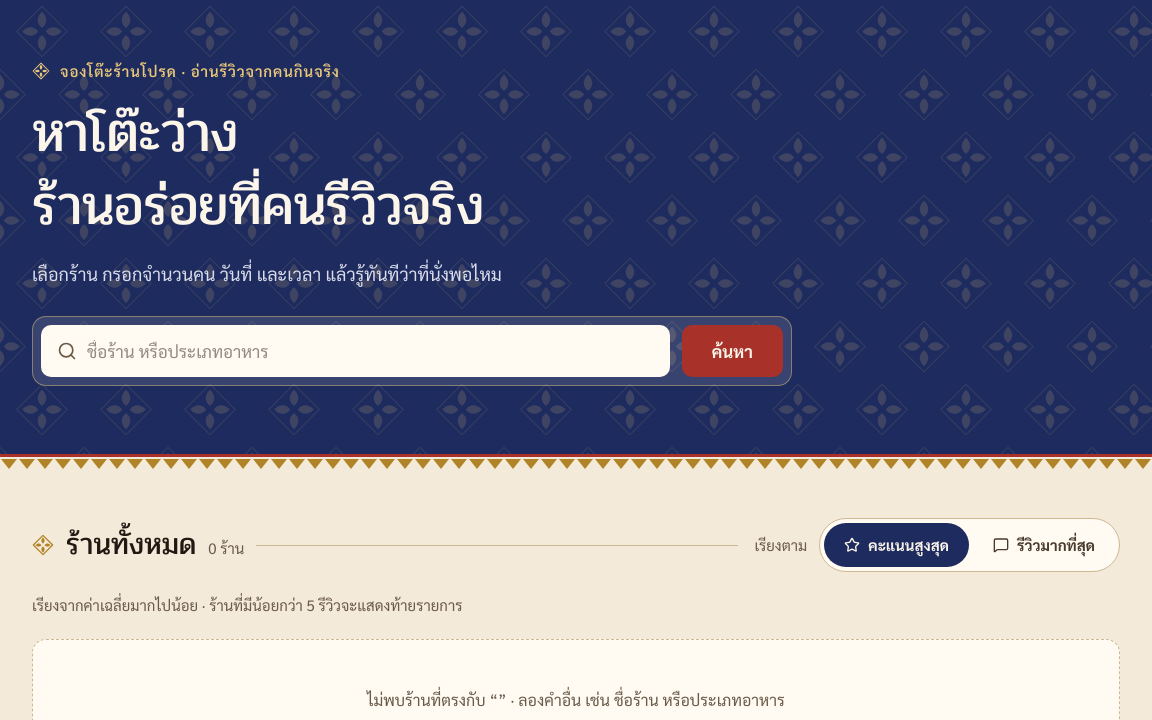
Test: RestaurantSearch › พิมพ์แล้วรอ 300ms ค่อยค้น (ไม่ยิงทุกตัวอักษร) · ใส่คำค้นใน URL
Expected: the text "0 ร้าน" is shown, [208,537,244,560]
Type "ส้มตำ" into the search field named "ค้นหาร้าน" at (370, 351), box [87,338,654,364]
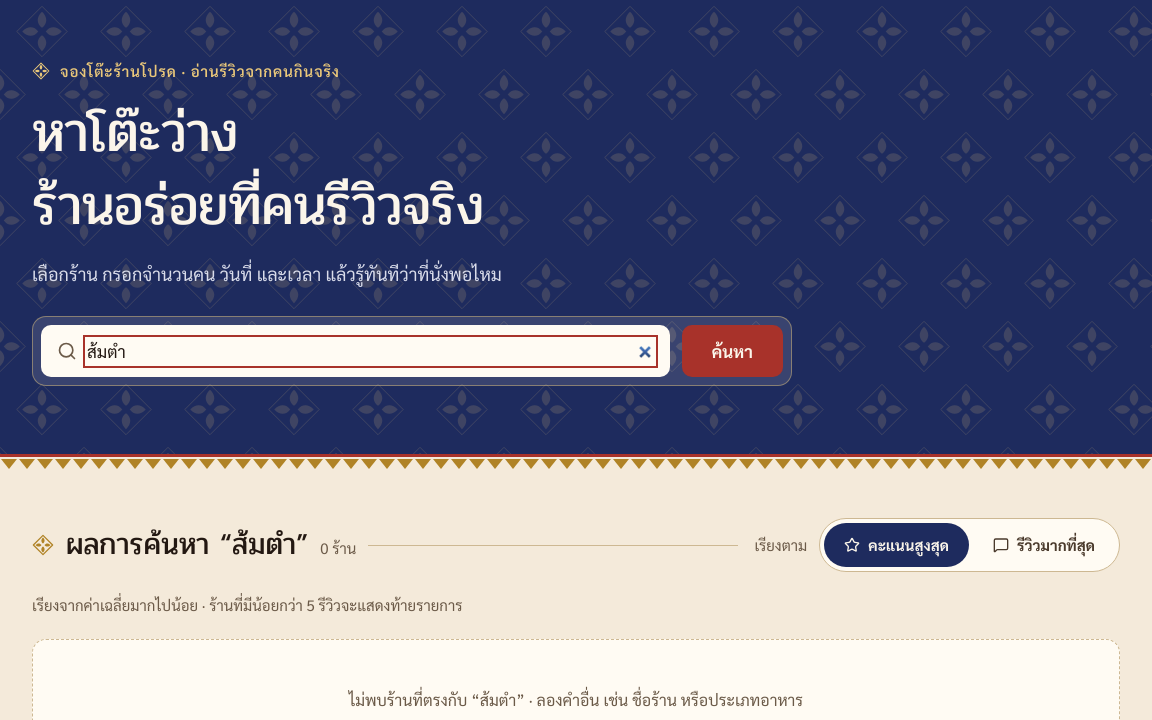
Result: the heading "ผลการค้นหา “ส้มตำ”" is shown at [66,525,308,565]
